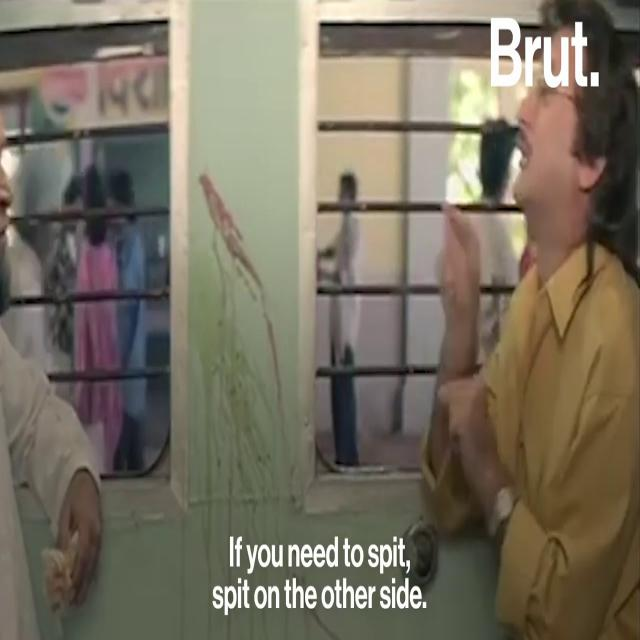spit: (185, 187, 309, 528)
